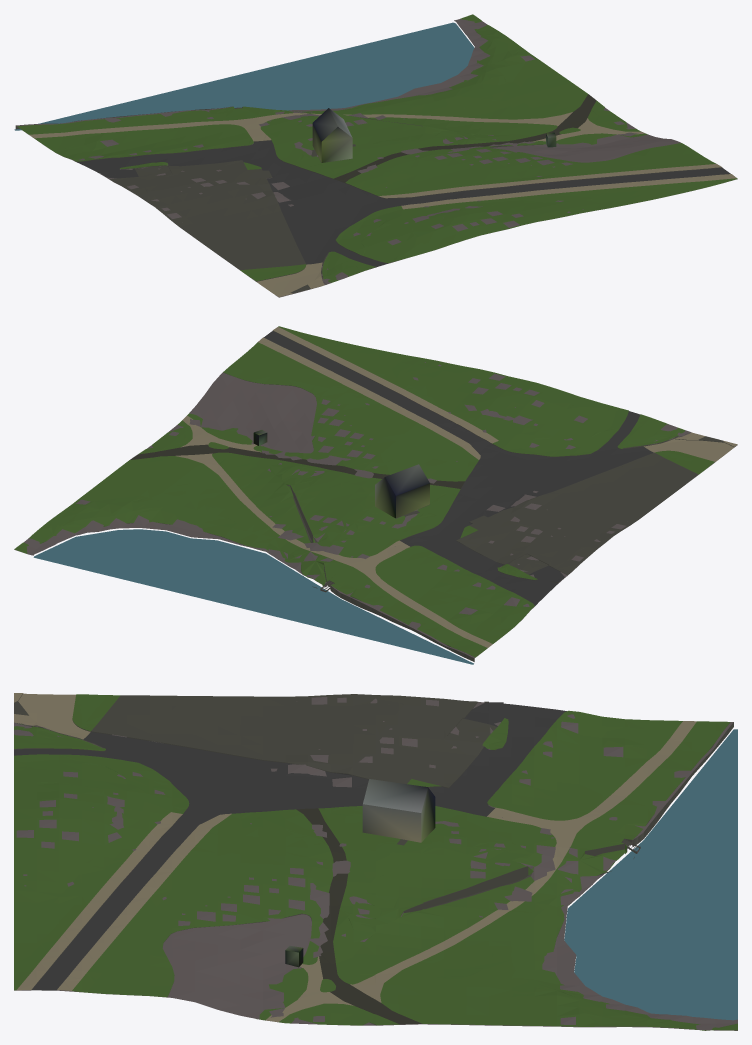
3 views of the same model, one above another, from view 1: azimuth 30°, elevation 25°; view 2: azimuth 150°, elevation 25°; view 3: azimuth 270°, elevation 25° (orthographic). The views are drawn at different scales.
Visible parts, largest first — view 1: c_m17_p01; view 2: c_m17_p01; view 3: c_m17_p01.
Part boxes in pixels (x1,y1,x2,y2): c_m17_p01: [14, 14, 737, 297]; c_m17_p01: [14, 326, 737, 664]; c_m17_p01: [14, 693, 737, 1030].
Bounding box in the file's own units: 128 × 14.87 × 128.
